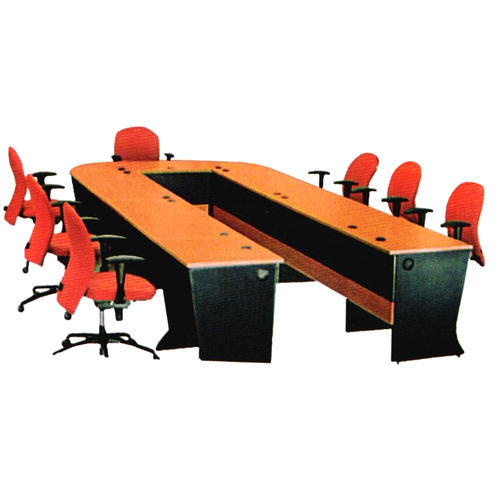conference_table: (70, 161, 472, 363)
